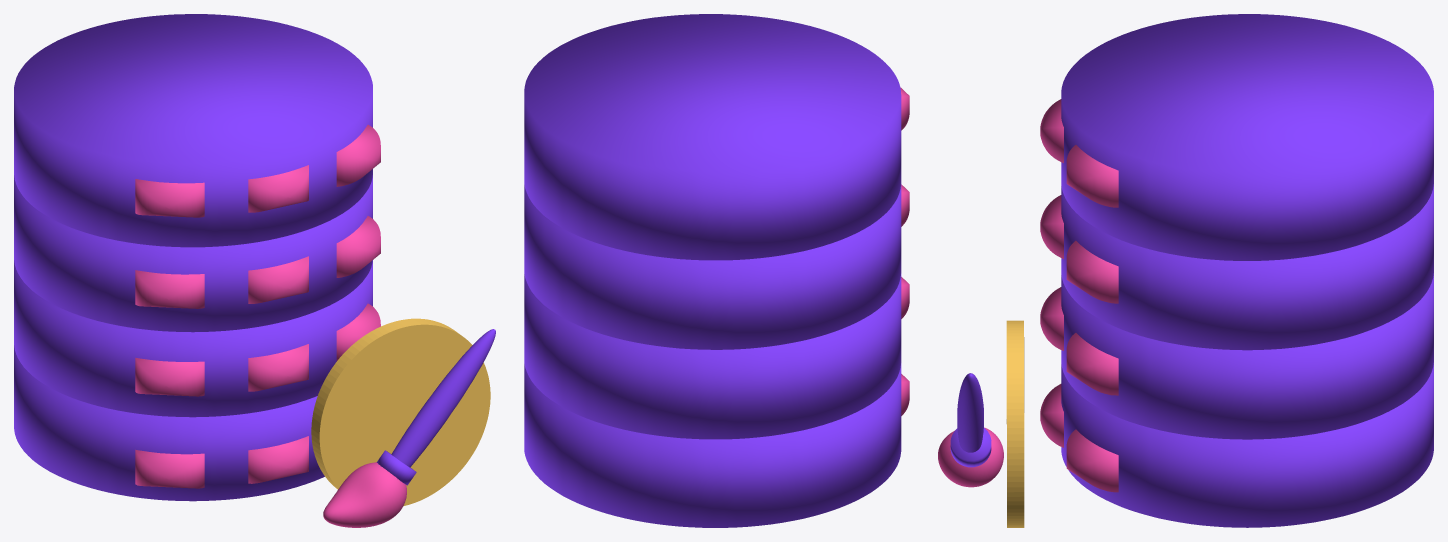
The model's file is Service_1.gltf.
3 renders of one model, left to right at view 1: azimuth 30°, elevation 25°; view 2: azimuth 150°, elevation 25°; view 3: azimuth 270°, elevation 25°, orthographic. The views are drawn at different scales.
Visible parts, largest first — view 1: Coin; view 2: Coin; view 3: Coin.
Part boxes in pixels (left/top/right/bottom): Coin: left=14, top=14, right=495, bottom=527; Coin: left=524, top=14, right=909, bottom=527; Coin: left=938, top=14, right=1433, bottom=527.
Size of the model in its own units: 1.55 by 1.56 by 1.88.
